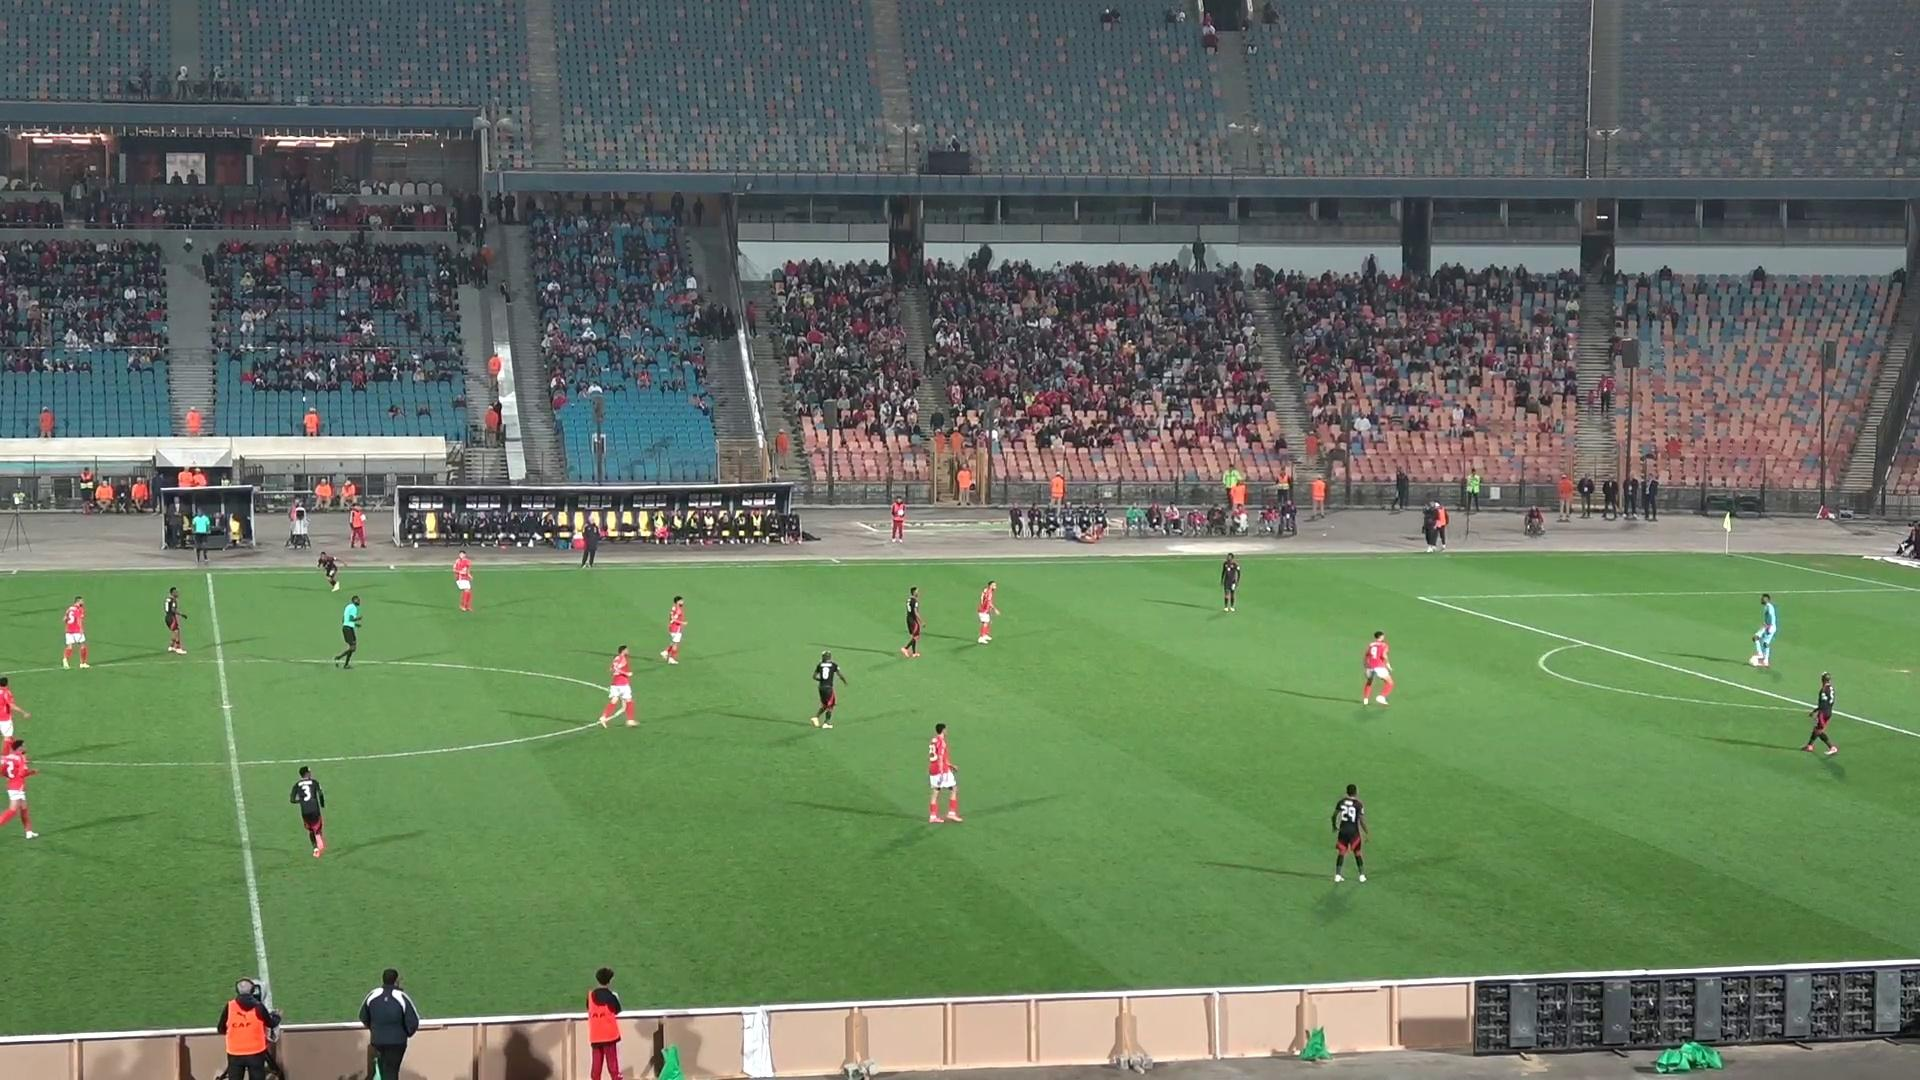Ball: (1749, 640, 1768, 669)
GK2: (1749, 592, 1779, 667)
Refree: (332, 593, 363, 669), (189, 504, 219, 562)
Team1: (0, 737, 37, 837), (595, 646, 638, 727), (927, 723, 961, 823), (1360, 632, 1394, 704), (61, 596, 90, 669), (659, 596, 687, 665), (975, 580, 1000, 644), (452, 550, 473, 612)
Team2: (1331, 785, 1369, 884), (289, 766, 326, 857), (1800, 673, 1838, 756), (810, 651, 847, 729), (897, 587, 924, 657), (162, 587, 187, 654), (1218, 554, 1242, 612), (316, 551, 342, 592)
